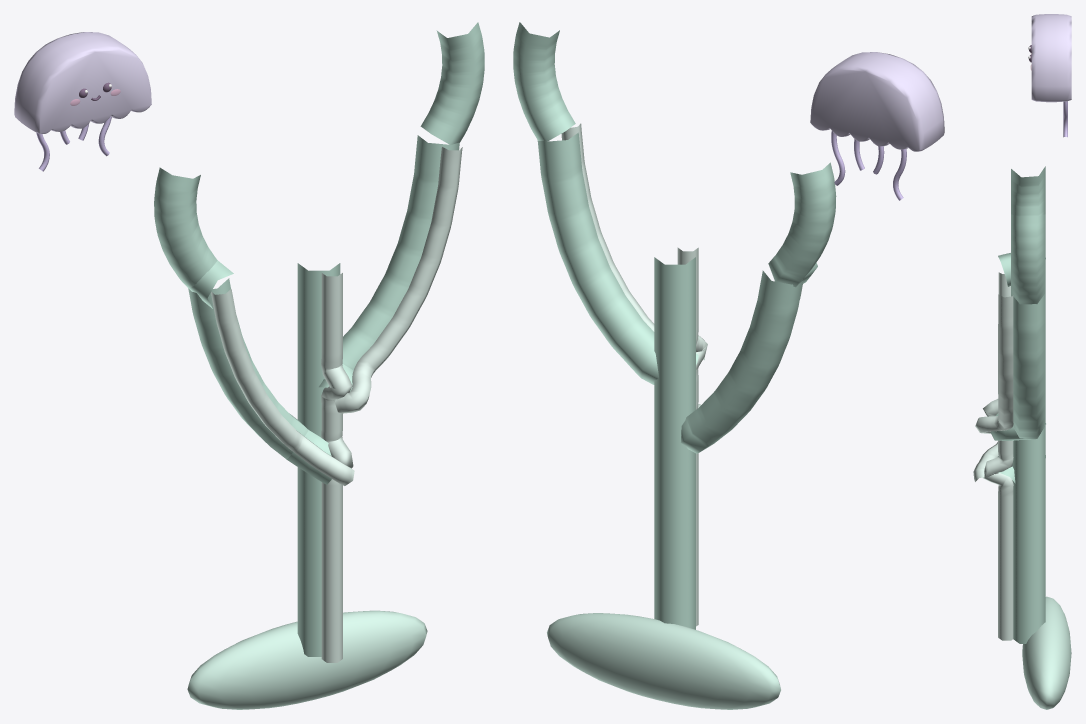
Rendered from decor_3_mint.glb.
The picture shows the model from 3 angles, left to right: view 1: azimuth 30°, elevation 25°; view 2: azimuth 150°, elevation 25°; view 3: azimuth 270°, elevation 25°; orthographic projection. The views are drawn at different scales.
Parts seen in each view (by area): view 1: decor_3_mint; view 2: decor_3_mint; view 3: decor_3_mint.
Boxes of the visible parts, x1,y1,x2,y2 form: decor_3_mint: [14, 22, 484, 709]; decor_3_mint: [513, 22, 944, 709]; decor_3_mint: [973, 14, 1071, 709].
Size of the model in its own units: 9.56 by 14.7 by 2.27.
